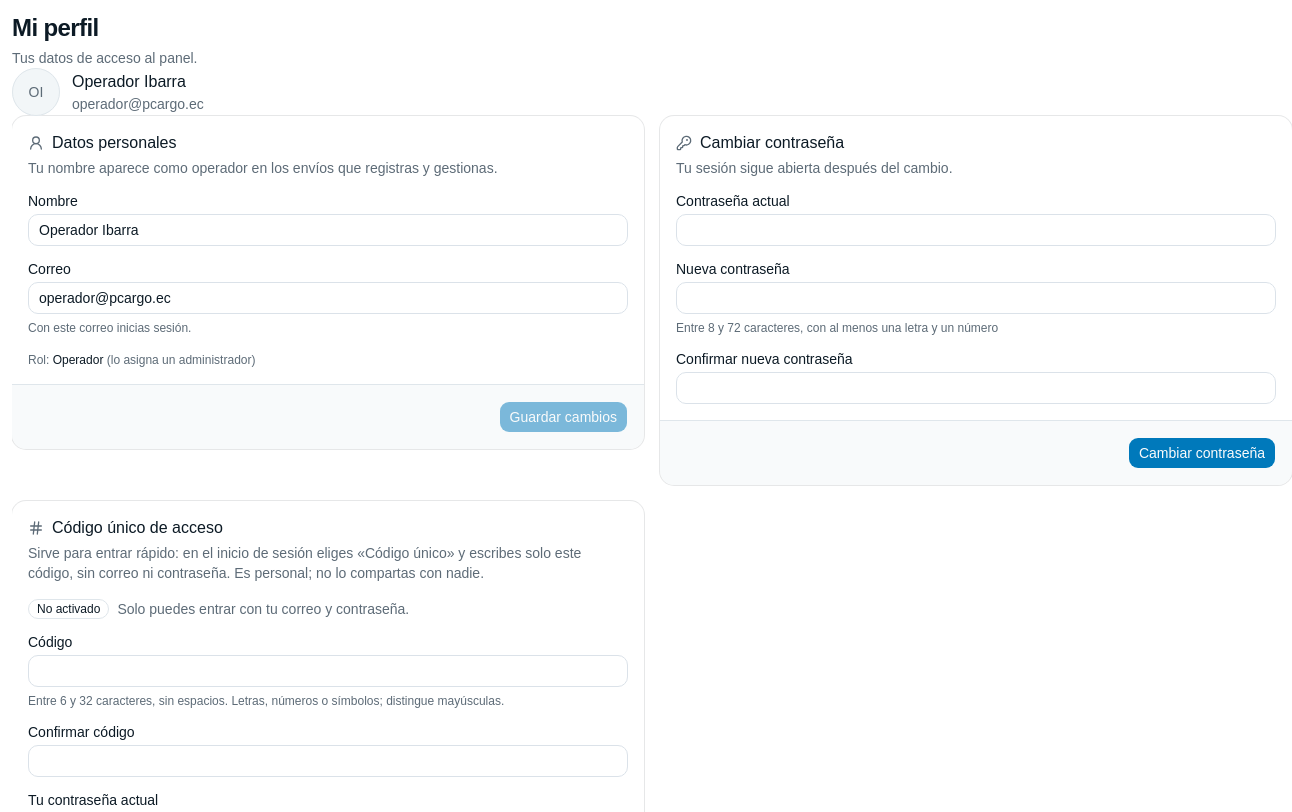
Scenario: PerfilPage — datos personales › 409: el correo ya es de otro usuario → error en el campo
Expected: the heading "Mi perfil" is shown, x1=12 y1=14 x2=99 y2=41
Replace the text in the field labelled "Correo" with "Admin@PCargo.ec": [328, 298] box x1=28 y1=282 x2=628 y2=314
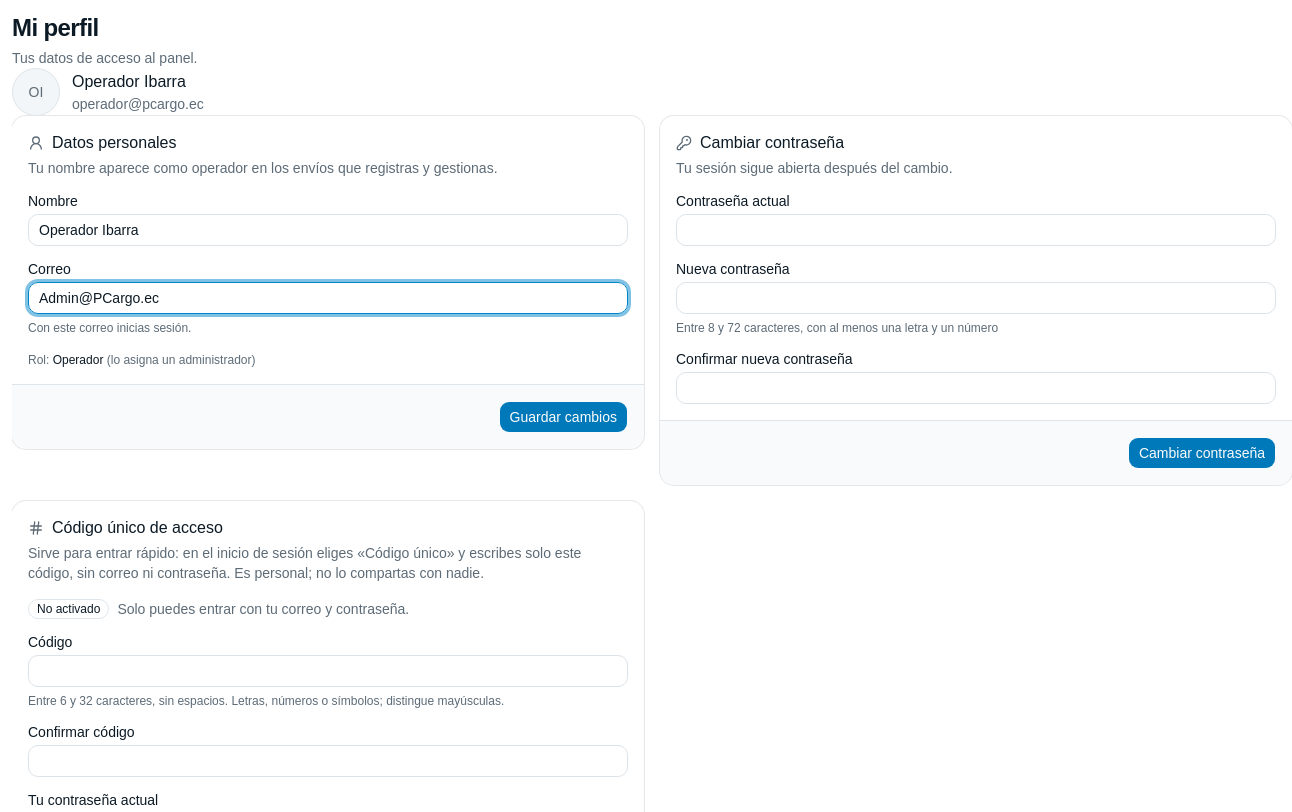
Click the button "Guardar cambios": [563, 417] box x1=499 y1=401 x2=628 y2=433
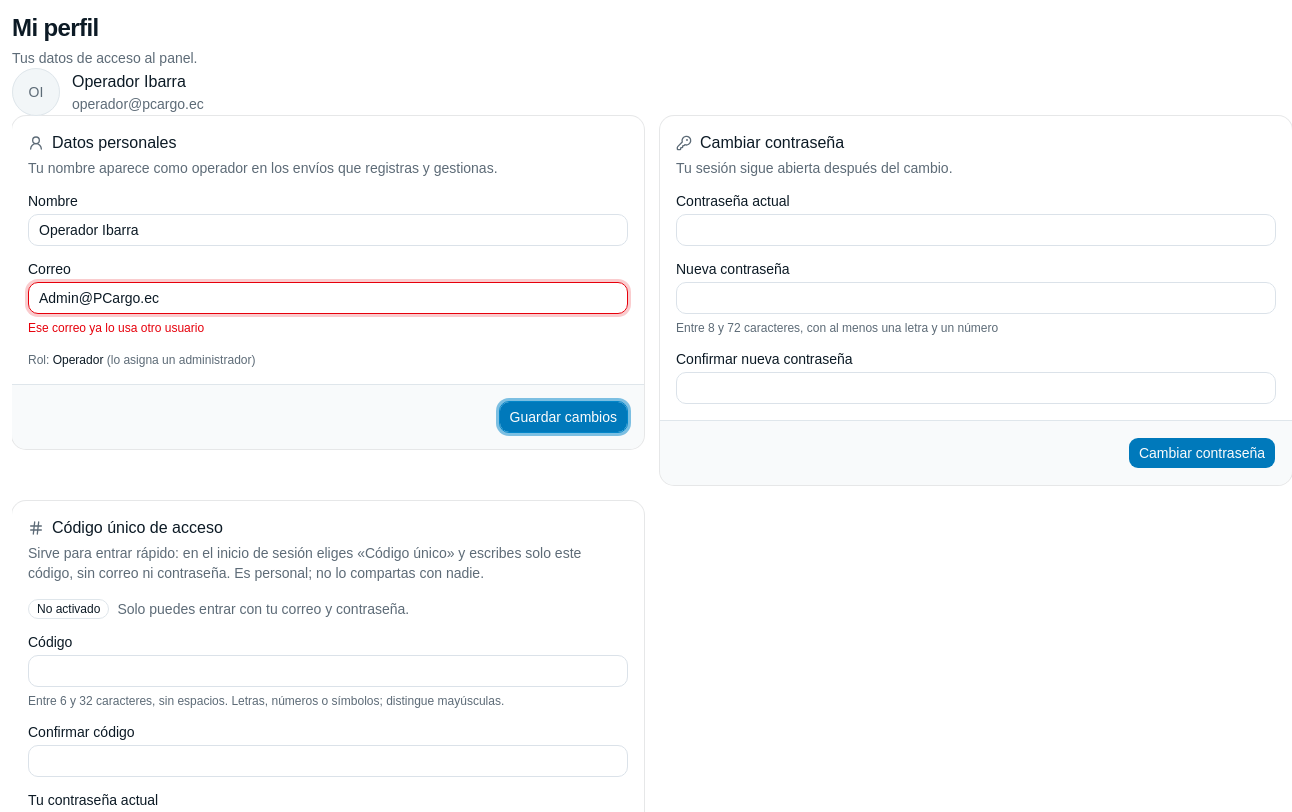
Expected: the text "Ese correo ya lo usa otro usuario" is shown, x1=28 y1=321 x2=204 y2=335
